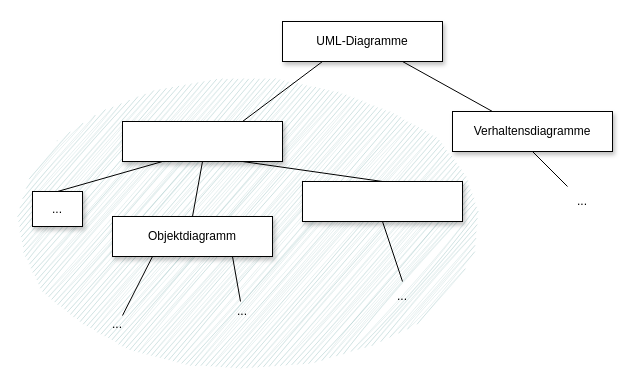
Some shapes in this 636 by 386 pixel diagram are drawn without their labels. The shapes that lost their labels are listed below. From the top down, each one's centre as x and y in pixels, then its label:
the point at 203,142: Strukturdiagramme
the point at 383,202: Klassendiagramm
